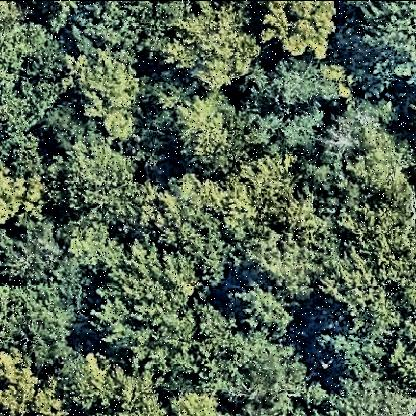tree-top: (92, 242, 195, 351), (243, 54, 327, 155), (164, 6, 258, 96), (3, 19, 68, 135), (1, 268, 75, 369), (63, 55, 146, 143), (236, 151, 319, 231), (337, 234, 416, 315), (65, 140, 138, 226), (68, 1, 168, 61), (237, 336, 311, 416), (350, 124, 414, 214), (352, 2, 416, 90), (255, 2, 341, 66), (173, 92, 237, 176), (76, 358, 166, 416), (244, 230, 321, 296), (173, 211, 233, 291), (327, 370, 416, 416), (357, 309, 416, 374), (65, 218, 126, 276), (1, 227, 63, 284), (235, 282, 297, 337), (1, 173, 45, 230), (1, 347, 31, 416), (1, 133, 45, 171), (163, 392, 227, 416), (36, 373, 68, 416)
